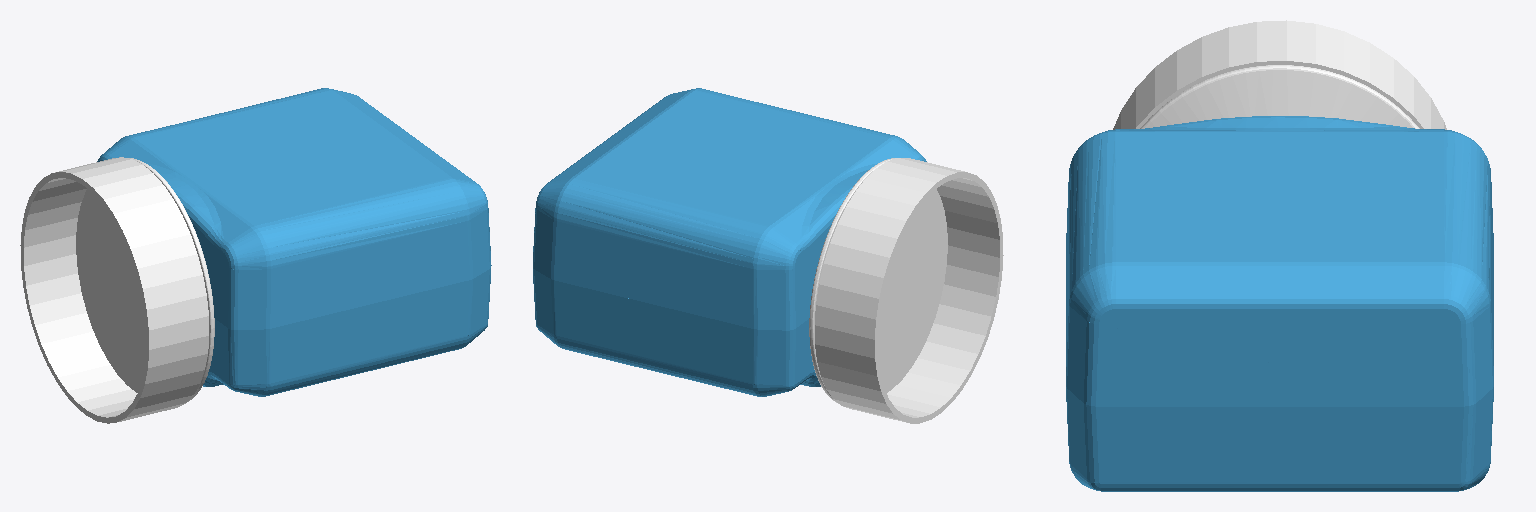
URDF robot description (fetch_gripper):
<robot name="fetch_gripper">
  <link name="wrist_roll_link">
    <inertial>
      <origin rpy="0 0 0" xyz="0.0095 0.0004 -0.0002" />
      <mass value="0.1354" />
      <inertia ixx="0.0001" ixy="0.0" ixz="0.0" iyy="0.0001" iyz="0.0" izz="0.0001" />
    </inertial>
    <visual>
      <origin rpy="0 0 0" xyz="0 0 0" />
      <geometry>
        <mesh filename="meshes/wrist_roll_link.obj" />
      </geometry>
      <material name="">
        <color rgba="1 1 1 1" />
      </material>
    </visual>
    <collision>
      <origin rpy="0 0 0" xyz="0 0 0" />
      <geometry>
        <mesh filename="meshes/wrist_roll_link_collision.STL" />
      </geometry>
    </collision>
  </link>
  <link name="gripper_link">
    <inertial>
      <origin rpy="0 0 0" xyz="-0.0900 -0.0001 -0.0017" />
      <mass value="1.5175" />
      <inertia ixx="0.0013" ixy="-0.0" ixz="0.0" iyy="0.0019" iyz="-0.0" izz="0.0024" />
    </inertial>
    <visual>
      <origin rpy="0 0 0" xyz="0 0 0" />
      <geometry>
        <mesh filename="meshes/gripper_link.obj" />
      </geometry>
    </visual>
    <collision>
      <origin rpy="0 0 0" xyz="0 0 0" />
      <geometry>
        <mesh filename="meshes/gripper_link.STL" />
      </geometry>
    </collision>
  </link>
  <joint name="gripper_axis" type="fixed">
    <origin rpy="0 0 0" xyz="0.16645 0 0" />
    <parent link="wrist_roll_link" />
    <child link="gripper_link" />
    <axis xyz="0 1 0" />
  </joint>
  <link name="r_gripper_finger_link">
    <inertial>
      <origin rpy="0 0 0" xyz="-0.01 0 0" />
      <mass value="0.0798" />
      <inertia ixx="0.002" ixy="0" ixz="0" iyy="0" iyz="0" izz="0" />
    </inertial>
    <visual>
      <origin rpy="0 0 0" xyz="0 0.101425 0" />
      <geometry>
        <mesh filename="meshes/r_gripper_finger_link.STL" />
      </geometry>
      <material name="">
        <color rgba="0.356 0.361 0.376 1" />
      </material>
    </visual>
    <collision>
      <origin rpy="0 0 0" xyz="0 0.101425 0" />
      <geometry>
        <mesh filename="meshes/r_gripper_finger_link.STL" />
      </geometry>
    </collision>
  </link>
  <joint name="r_gripper_finger_joint" type="prismatic">
    <origin rpy="0 0 0" xyz="0 0.015425 0" />
    <parent link="gripper_link" />
    <child link="r_gripper_finger_link" />
    <axis xyz="0 1 0" />
  <limit effort="60" lower="0.0" upper="0.05" velocity="0.05" /><dynamics damping="100.0" /></joint>
  <link name="l_gripper_finger_link">
    <inertial>
      <origin rpy="0 0 0" xyz="-0.01 0 0" />
      <mass value="0.0798" />
      <inertia ixx="0.002" ixy="0" ixz="0" iyy="0" iyz="0" izz="0" />
    </inertial>
    <visual>
      <origin rpy="0 0 0" xyz="0 -0.101425 0" />
      <geometry>
        <mesh filename="meshes/l_gripper_finger_link.STL" />
      </geometry>
      <material name="">
        <color rgba="0.356 0.361 0.376 1" />
      </material>
    </visual>
    <collision>
      <origin rpy="0 0 0" xyz="0 -0.101425 0" />
      <geometry>
        <mesh filename="meshes/l_gripper_finger_link.STL" />
      </geometry>
    </collision>
  </link>
  <joint name="l_gripper_finger_joint" type="prismatic">
    <origin rpy="0 0 0" xyz="0 -0.015425 0" />
    <parent link="gripper_link" />
    <child link="l_gripper_finger_link" />
    <axis xyz="0 -1 0" />
  <limit effort="60" lower="0.0" upper="0.05" velocity="0.05" /><dynamics damping="100.0" /></joint>
</robot>

--- Facts derived from the render (not from the file) ---
Views: 3 orthographic renders of the robot side by side, from view 1: azimuth 30°, elevation 25°; view 2: azimuth 150°, elevation 25°; view 3: azimuth 270°, elevation 25°.
Robot: fetch_gripper — 4 links, 3 joints (2 prismatic, 1 fixed); root link wrist_roll_link; default pose: all joints at 0.
Visible links, largest first — view 1: gripper_link, wrist_roll_link; view 2: gripper_link, wrist_roll_link; view 3: gripper_link, wrist_roll_link.
Link boxes in pixels (x1,y1,x2,y2): gripper_link: [97, 88, 491, 396]; wrist_roll_link: [20, 157, 214, 423]; gripper_link: [533, 88, 926, 396]; wrist_roll_link: [809, 158, 1003, 423]; gripper_link: [1066, 116, 1493, 491]; wrist_roll_link: [1113, 20, 1446, 129].
Bounding box of the posed robot: 0.1575 × 0.1261 × 0.1039 m (x, y, z).
2 mesh visuals loaded from 4 distinct referenced files (2 OBJ); not drawn: 2 (reference not matched to a file when rendering).